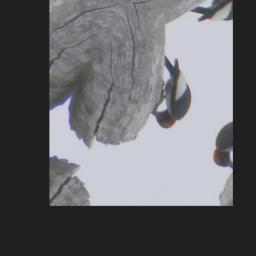Woodpecker: (132, 49, 209, 139)
